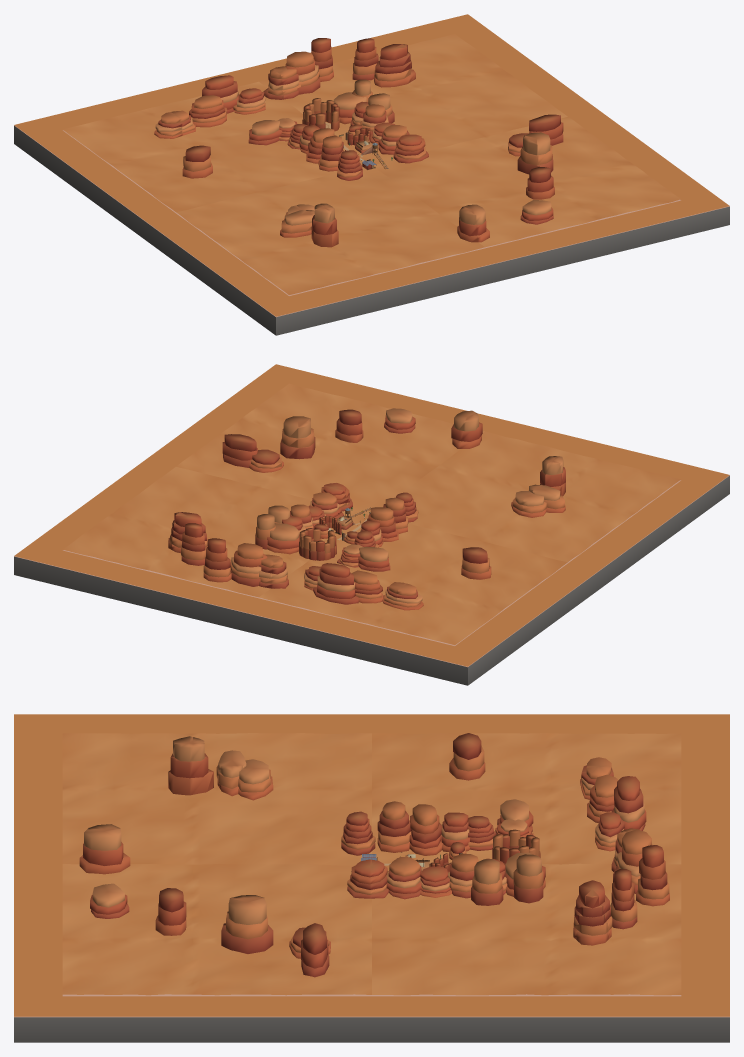
3 renders of one model, top to bottom at view 1: azimuth 30°, elevation 25°; view 2: azimuth 150°, elevation 25°; view 3: azimuth 270°, elevation 25°, orthographic. The views are drawn at different scales.
Parts seen in each view (by area): view 1: near-placeholder; view 2: near-placeholder; view 3: near-placeholder.
Boxes of the visible parts, left/top/right/bottom form: near-placeholder: left=14, top=14, right=729, bottom=335; near-placeholder: left=14, top=364, right=729, bottom=685; near-placeholder: left=14, top=714, right=729, bottom=1042.
Size of the model in its own units: 500 by 58.2 by 500.
